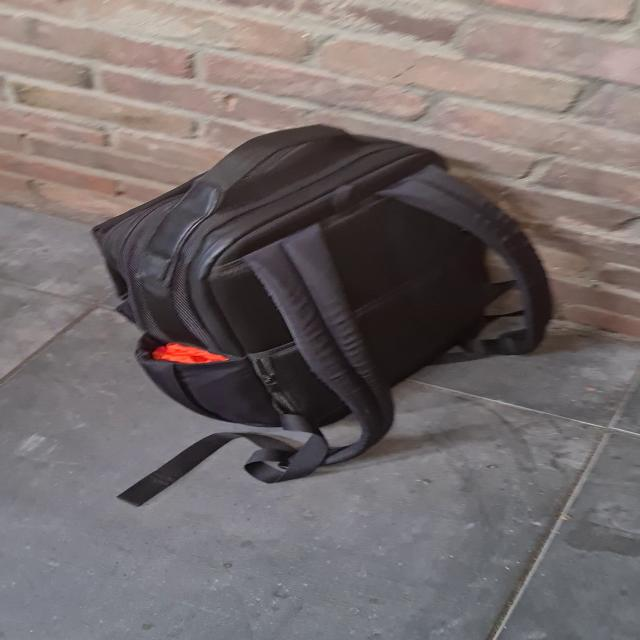backpack: (82, 112, 559, 481)
